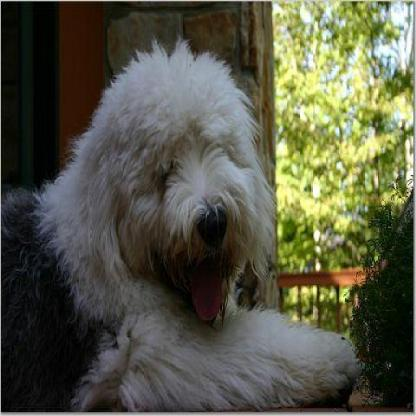Old_English_sheepdog: (2, 35, 358, 407)
